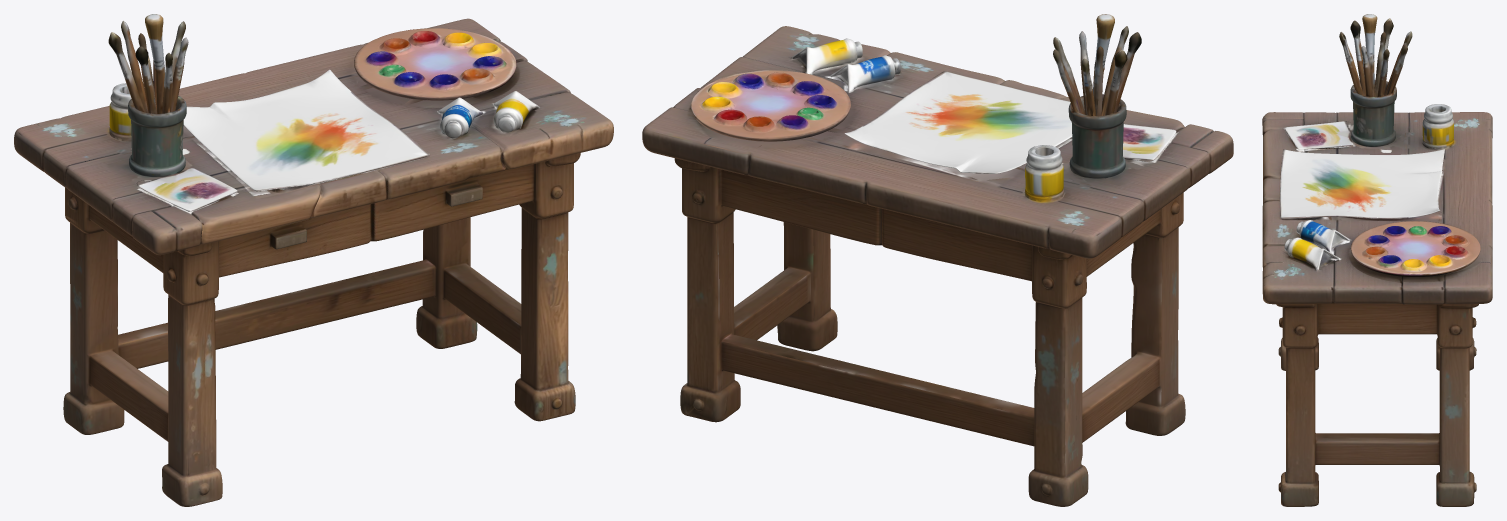
The model's file is hunyuan-desk-web.glb.
The picture shows the model from 3 angles, left to right: view 1: azimuth 30°, elevation 25°; view 2: azimuth 150°, elevation 25°; view 3: azimuth 270°, elevation 25°; orthographic projection. The views are drawn at different scales.
Parts seen in each view (by area): view 1: node_0; view 2: node_0; view 3: node_0.
Part boxes in pixels (bbox=[...]): node_0: bbox=[14, 14, 613, 506]; node_0: bbox=[642, 14, 1233, 506]; node_0: bbox=[1262, 14, 1492, 506].
Size of the model in its own units: 0.8923 by 0.8235 by 0.4912.
1 material, 1 textured.
